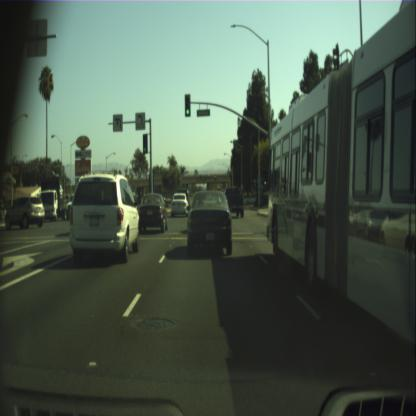Green: (184, 94, 190, 116)
GreenLeft: (142, 134, 147, 152)
Red: (208, 174, 209, 180), (215, 175, 216, 180)
off: (199, 174, 201, 179)
